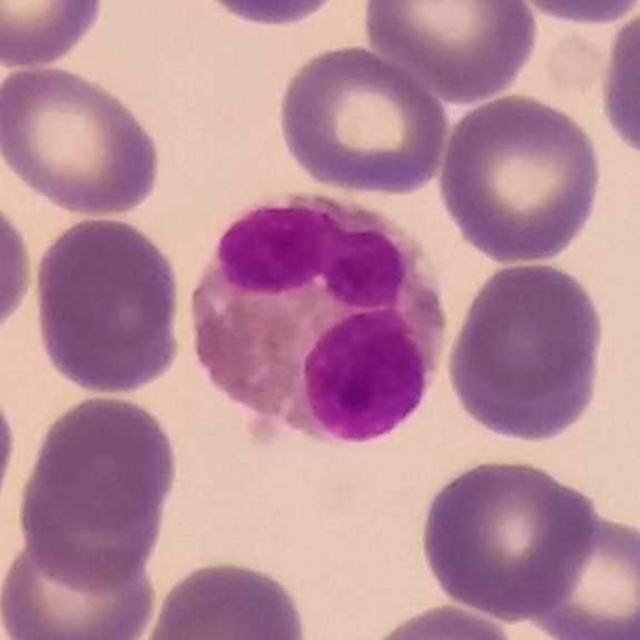eosino: (188, 187, 450, 449)
